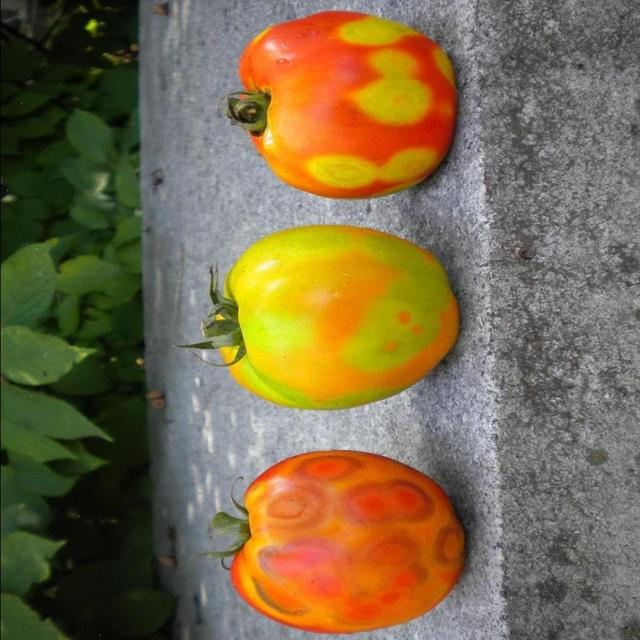Spotted wilt Virus Fruit: (144, 70, 232, 361)
